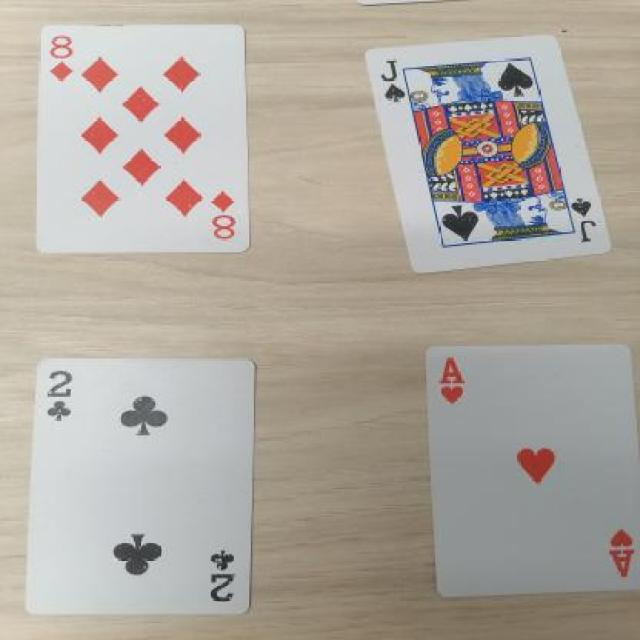2C: (43, 364, 82, 428), (208, 547, 244, 610)
8D: (42, 28, 80, 86), (205, 182, 239, 242)
AH: (427, 345, 479, 421), (602, 526, 636, 581)
JS: (369, 51, 417, 108), (569, 189, 608, 250)
